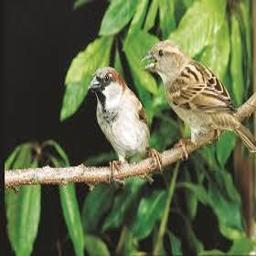Sparrow: (140, 40, 256, 160), (87, 67, 163, 183)
